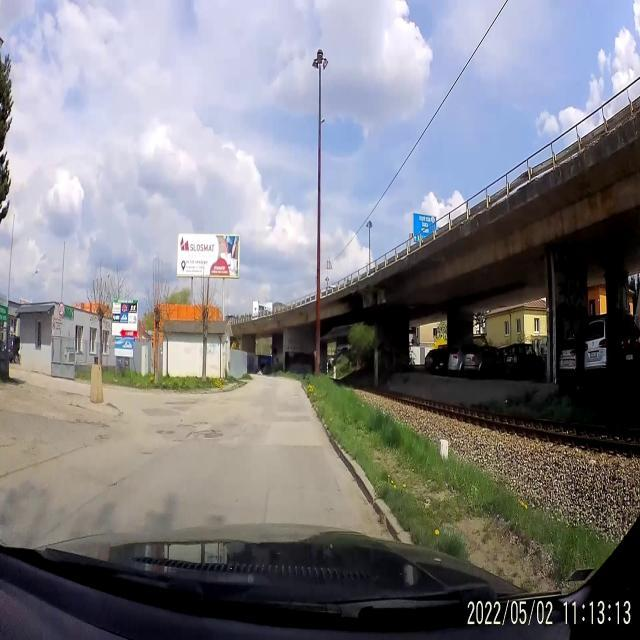Pothole: (183, 416, 230, 448), (150, 415, 181, 448), (105, 398, 127, 420), (67, 415, 96, 427), (60, 386, 84, 398), (68, 401, 86, 412), (94, 432, 112, 442), (136, 450, 154, 458), (106, 480, 120, 490), (99, 420, 111, 430)
